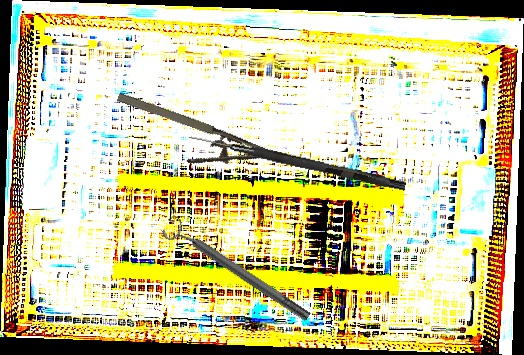Fixation Ring: (159, 212, 316, 330)
Hook Surgical: (189, 133, 407, 191)
Needle Holder: (105, 87, 292, 198)
